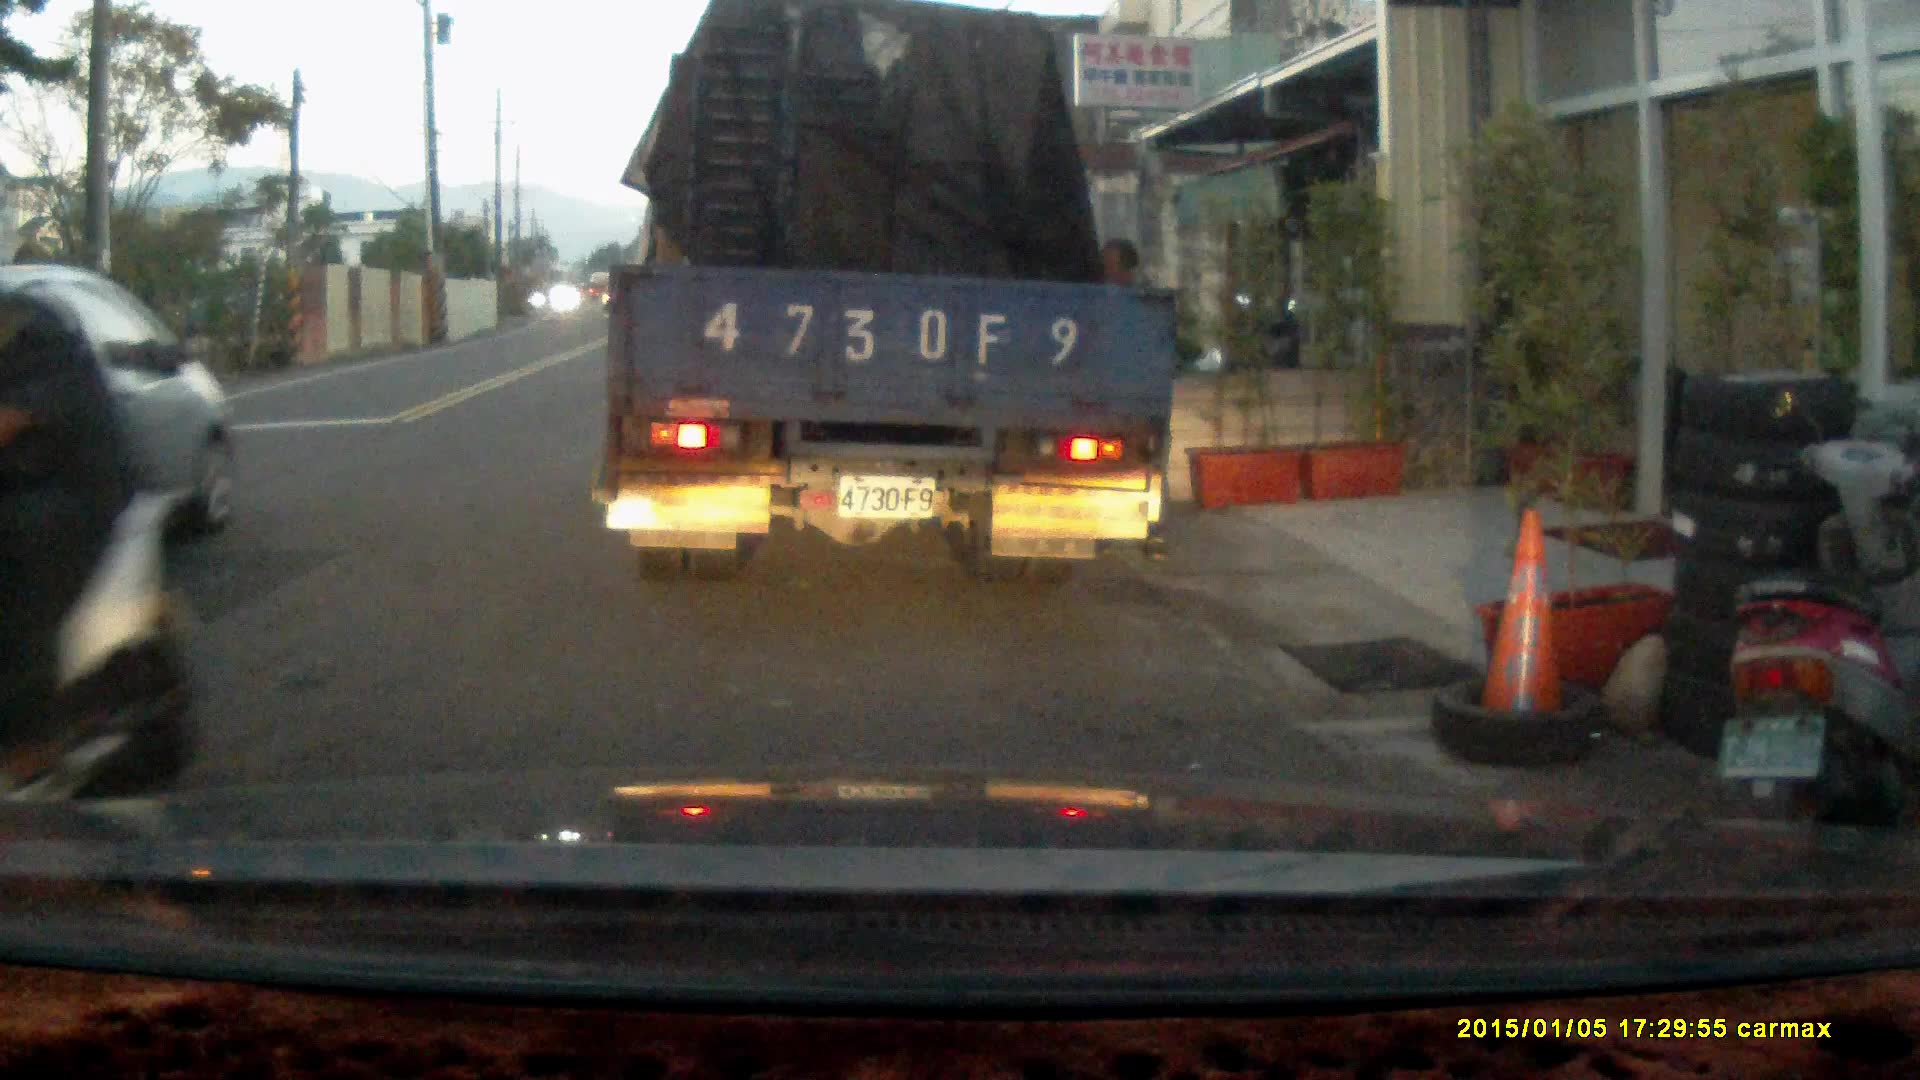pedestrian: (1083, 236, 1184, 567)
rider: (0, 242, 201, 875)
vehicle: (599, 23, 1185, 572), (1, 265, 229, 537)
